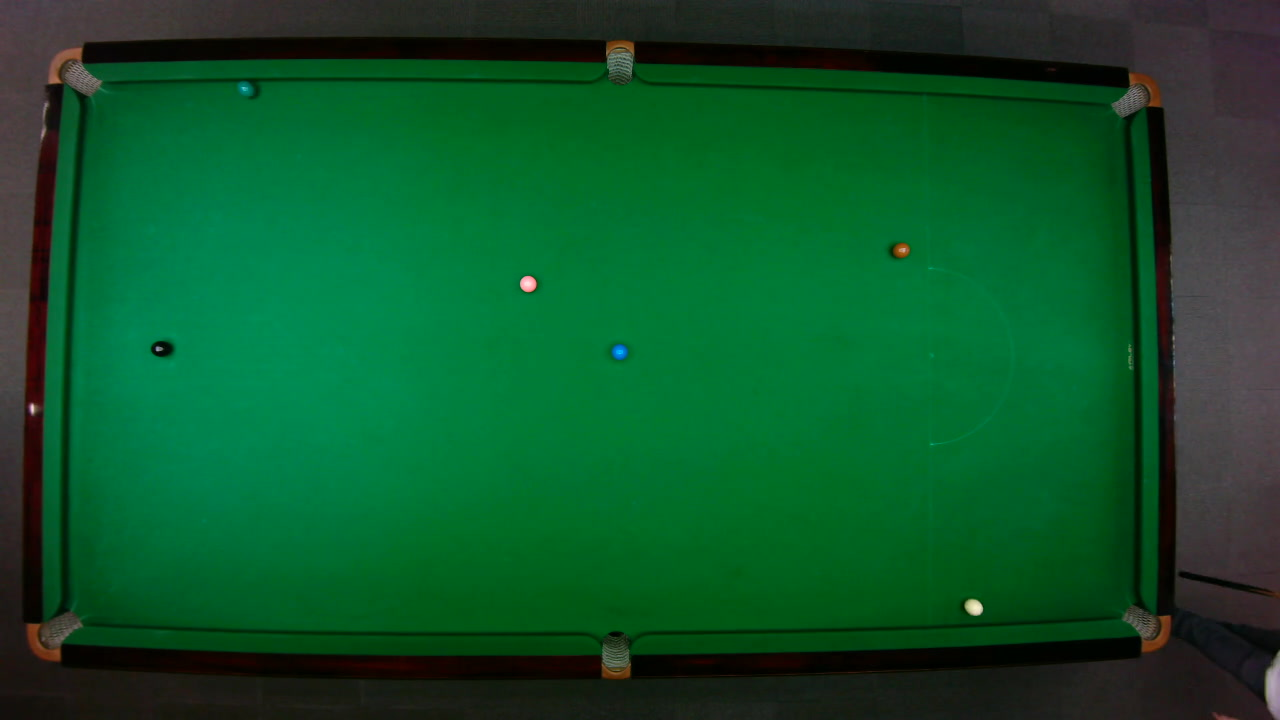bag: (25, 609, 83, 662), (46, 46, 102, 97), (1119, 602, 1171, 652), (1108, 71, 1161, 118), (600, 629, 629, 680), (605, 38, 633, 85)
black: (149, 339, 171, 357)
blue: (610, 342, 628, 360)
brown: (890, 241, 911, 258)
green: (236, 79, 255, 97)
pink: (517, 274, 537, 293)
white: (962, 597, 983, 616)
zone: (927, 265, 1014, 446)
